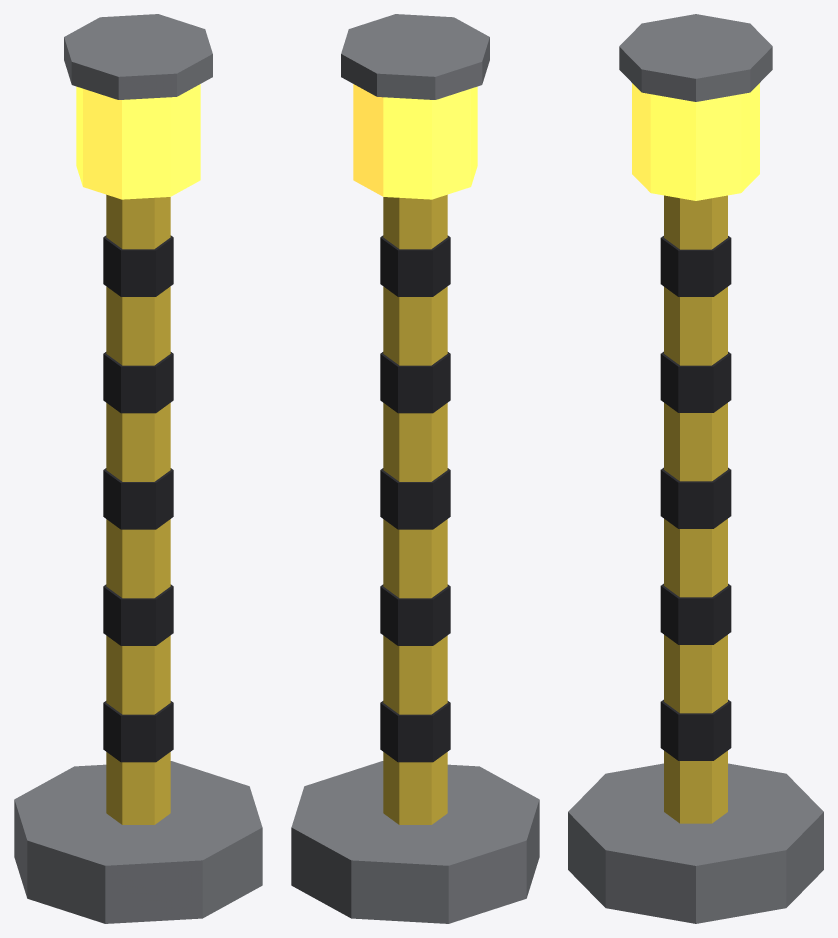
The model's file is SM_Landing_Light.glb.
3 views of the same model, side by side, from view 1: azimuth 30°, elevation 25°; view 2: azimuth 150°, elevation 25°; view 3: azimuth 270°, elevation 25° (orthographic).
Parts seen in each view (by area): view 1: SM_Landing_Light; view 2: SM_Landing_Light; view 3: SM_Landing_Light.
Part boxes in pixels (box(x1,y1,x2,y2)): SM_Landing_Light: box(14, 14, 262, 923); SM_Landing_Light: box(291, 14, 539, 923); SM_Landing_Light: box(568, 14, 823, 923).
Size of the model in its own units: 0.4 by 1.42 by 0.4.
